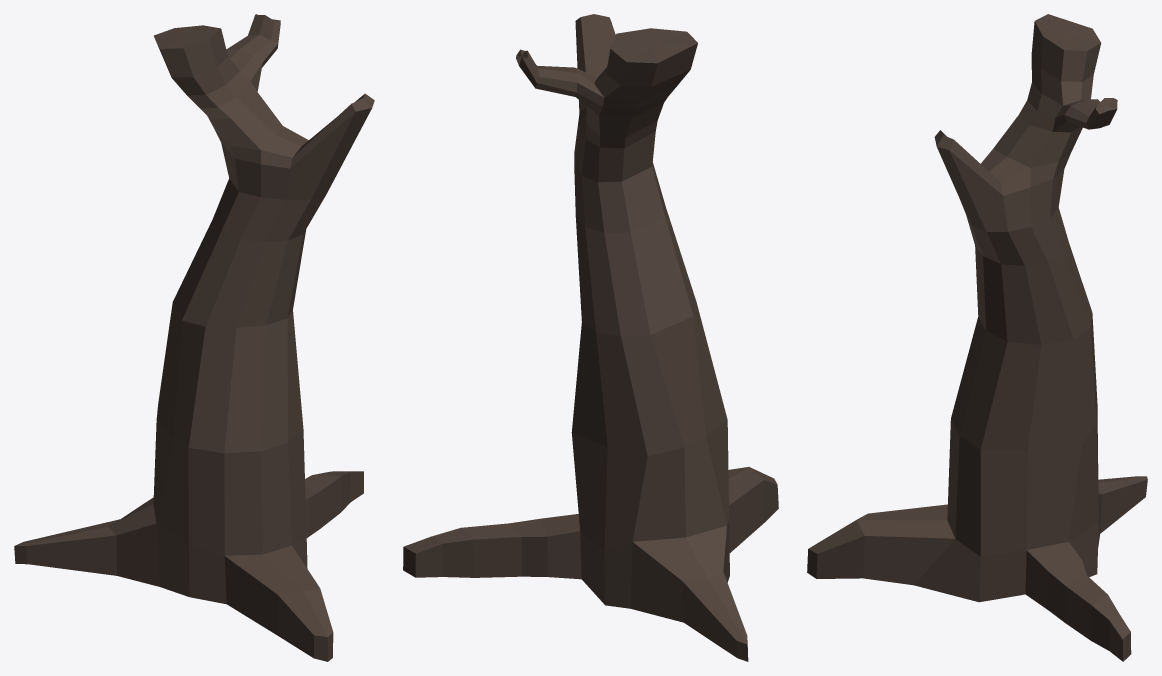
File: Tree_10.fbx
3 renders of one model, left to right at view 1: azimuth 30°, elevation 25°; view 2: azimuth 150°, elevation 25°; view 3: azimuth 270°, elevation 25°, orthographic. The views are drawn at different scales.
Parts seen in each view (by area): view 1: Tree_10; view 2: Tree_10; view 3: Tree_10.
Boxes of the visible parts, x1=… form: Tree_10: x1=14, y1=14, x2=374, y2=661; Tree_10: x1=403, y1=14, x2=778, y2=661; Tree_10: x1=807, y1=14, x2=1147, y2=661.
Size of the model in its own units: 161 by 141 by 245.
